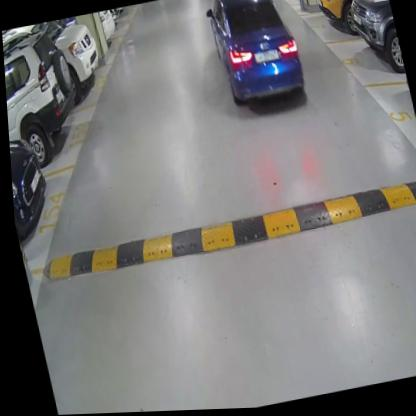np: (252, 49, 279, 64)
